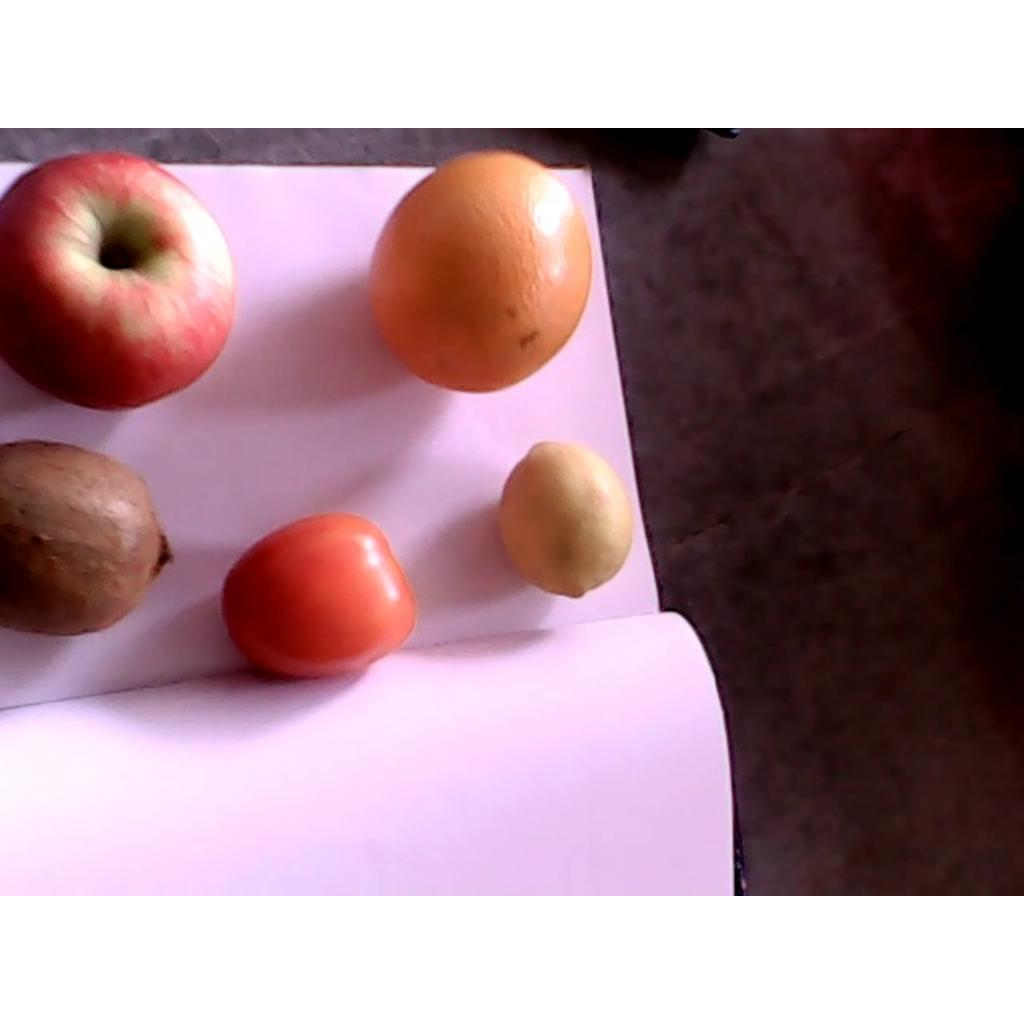apple: (0, 152, 235, 411)
kiwi: (0, 443, 175, 635)
lemon: (499, 442, 635, 598)
orange: (369, 151, 594, 391)
tomato: (220, 512, 417, 680)
